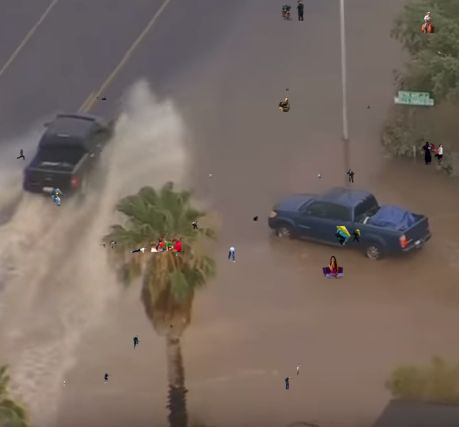Human: (322, 256, 345, 279), (150, 235, 181, 252), (132, 335, 162, 352), (421, 142, 443, 165), (280, 0, 304, 21), (335, 226, 361, 245), (281, 376, 310, 391), (421, 12, 437, 33), (49, 188, 65, 206), (278, 96, 291, 112), (344, 169, 355, 184), (100, 240, 117, 249), (192, 221, 207, 231), (227, 247, 236, 263), (131, 247, 147, 254), (16, 149, 25, 160), (104, 372, 111, 384), (438, 51, 447, 58), (297, 363, 301, 375), (95, 96, 106, 100), (173, 253, 179, 258), (253, 216, 258, 221), (318, 173, 322, 179), (63, 381, 66, 386), (209, 173, 212, 178), (170, 323, 173, 328), (400, 80, 403, 85), (367, 105, 370, 109), (286, 88, 289, 91)
